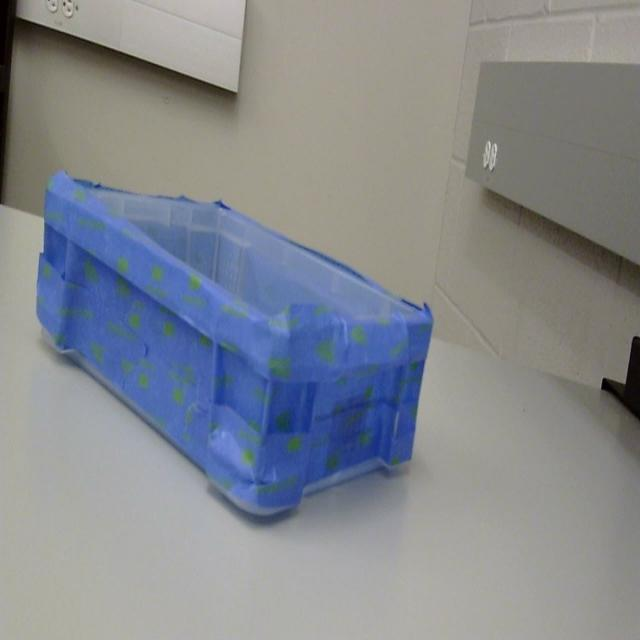bucket: (34, 172, 434, 525)
